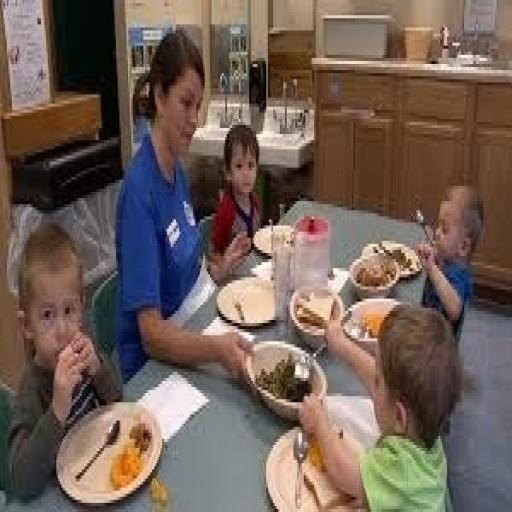eating: (7, 24, 486, 503)
